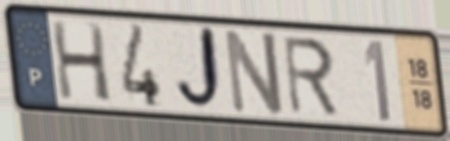1: (362, 37, 392, 124)
4: (119, 21, 164, 110)
H: (48, 18, 115, 105)
J: (172, 22, 226, 116)
N: (221, 25, 286, 117)
R: (279, 34, 342, 119)
